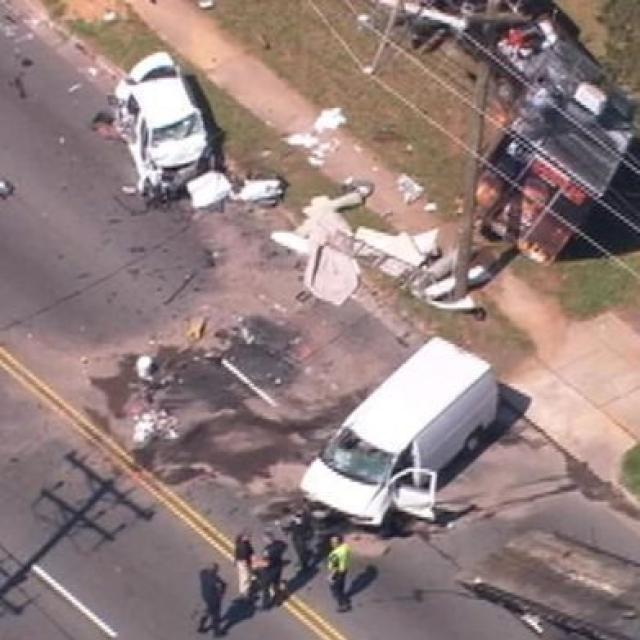traffic_incident: (291, 324, 504, 524), (84, 48, 229, 196)
